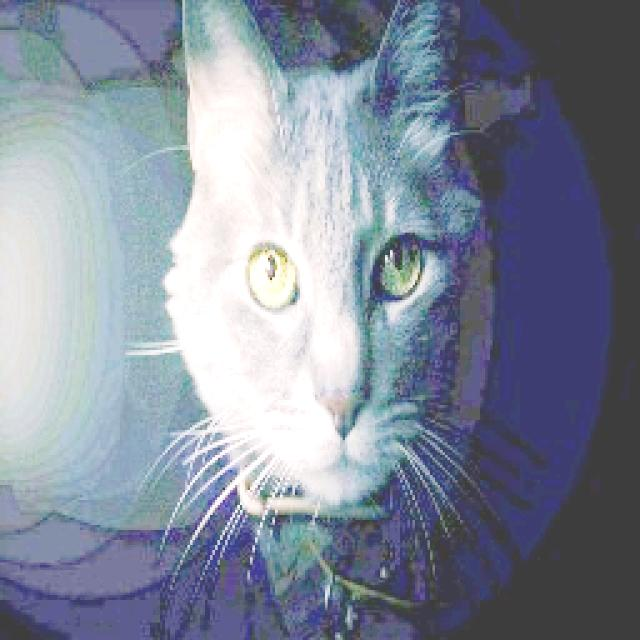cat: (166, 0, 507, 543)
